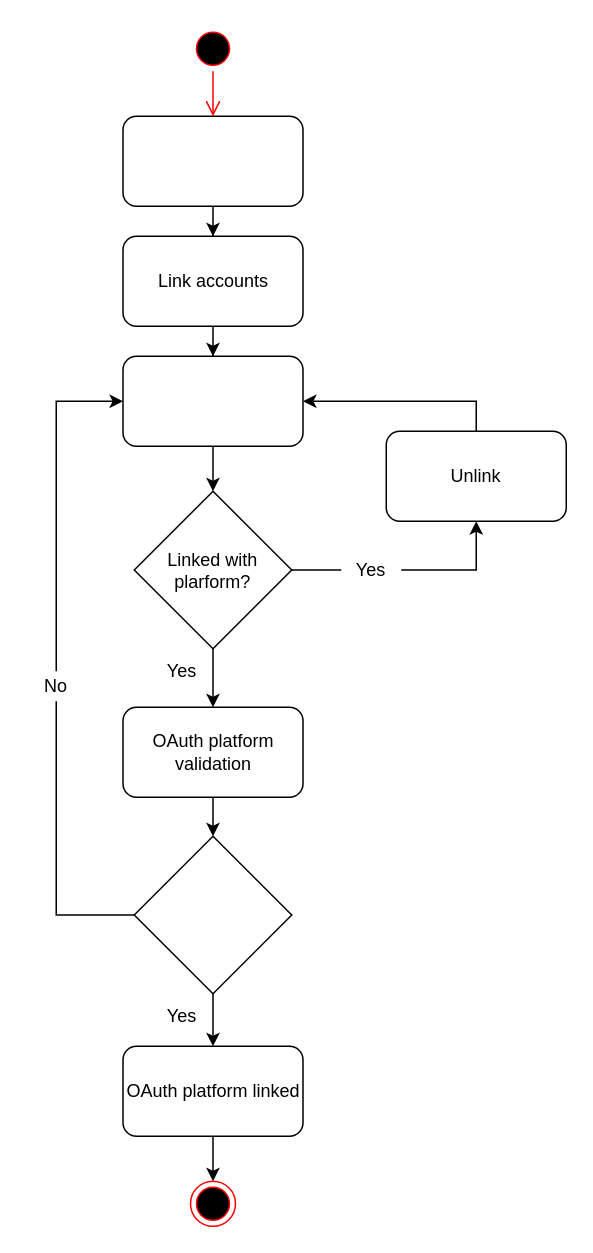
Image size: 593x1253. Some labels were removed from this diagram. Here are the shapes that lost their labels. From the top down, the box of each, then its label:
(122, 115, 303, 206): Profile
(122, 355, 303, 446): Choose OAuth platform
(133, 835, 292, 994): Validated by OAuth platform?
